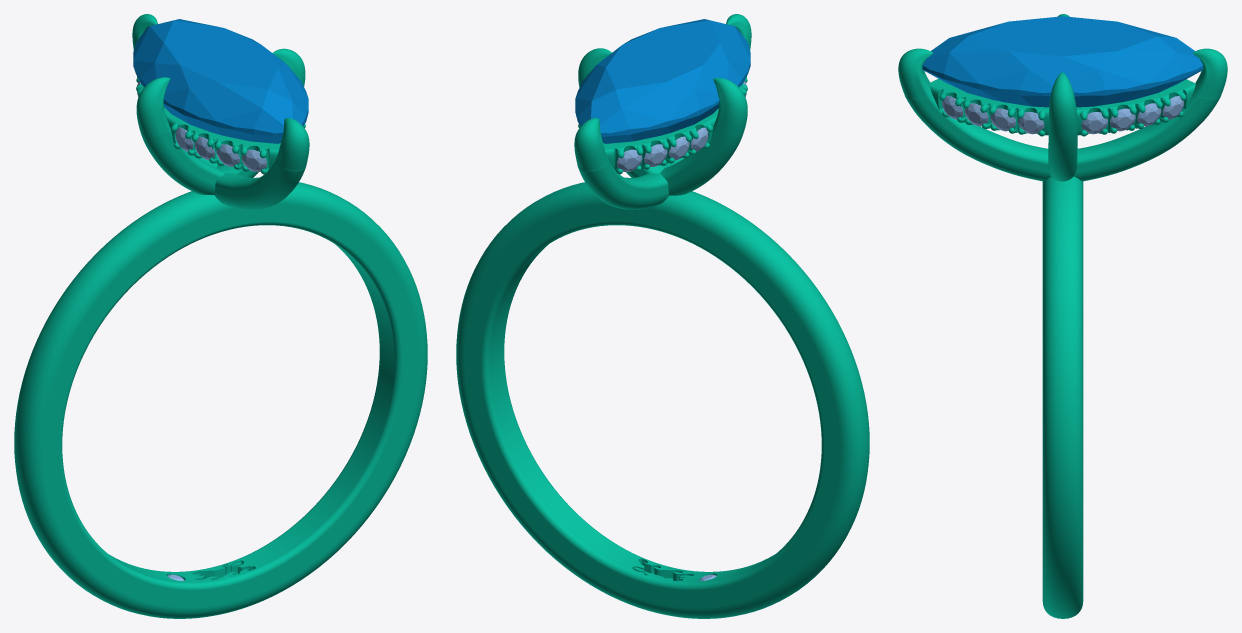
The model's file is ring7.glb.
3 views of the same model, side by side, from view 1: azimuth 30°, elevation 25°; view 2: azimuth 150°, elevation 25°; view 3: azimuth 270°, elevation 25° (orthographic).
Parts seen in each view (by area): view 1: gold.3dm, Diamond_Marquise; view 2: gold.3dm, Diamond_Marquise; view 3: gold.3dm, Diamond_Marquise.
Boxes of the visible parts, x1,y1,x2,y2 form: gold.3dm: (14,14,427,618); Diamond_Marquise: (133,19,308,143); gold.3dm: (456,14,869,618); Diamond_Marquise: (575,19,750,143); gold.3dm: (898,14,1227,618); Diamond_Marquise: (922,16,1203,107).
Bounding box in the file's own units: 2.24 × 2.93 × 1.56.
